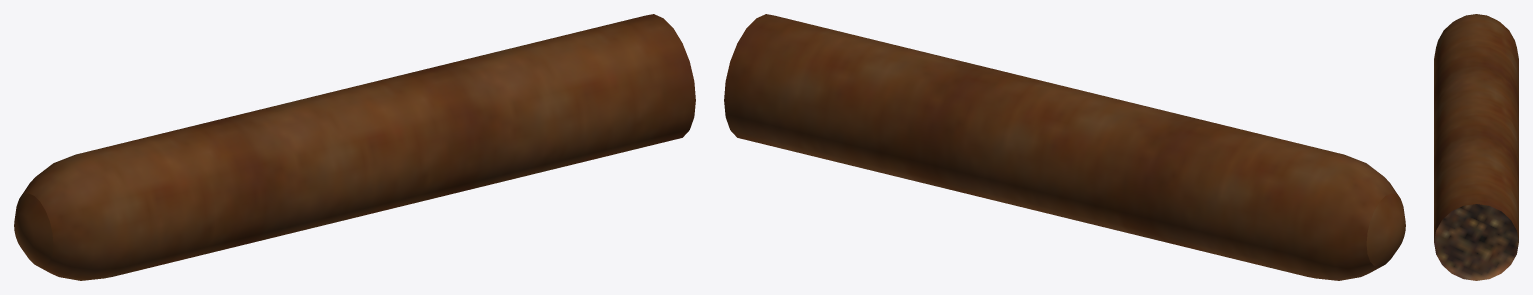
3 renders of one model, left to right at view 1: azimuth 30°, elevation 25°; view 2: azimuth 150°, elevation 25°; view 3: azimuth 270°, elevation 25°, orthographic. The views are drawn at different scales.
Visible parts, largest first — view 1: Sphere; view 2: Sphere; view 3: Sphere.
Part boxes in pixels (x1,y1,x2,y2): Sphere: (14, 14, 695, 280); Sphere: (724, 14, 1405, 280); Sphere: (1434, 14, 1518, 280).
Bounding box in the file's own units: 0.1579 × 0.0274 × 0.0274.
Materials: 1 (1 with a texture image).
